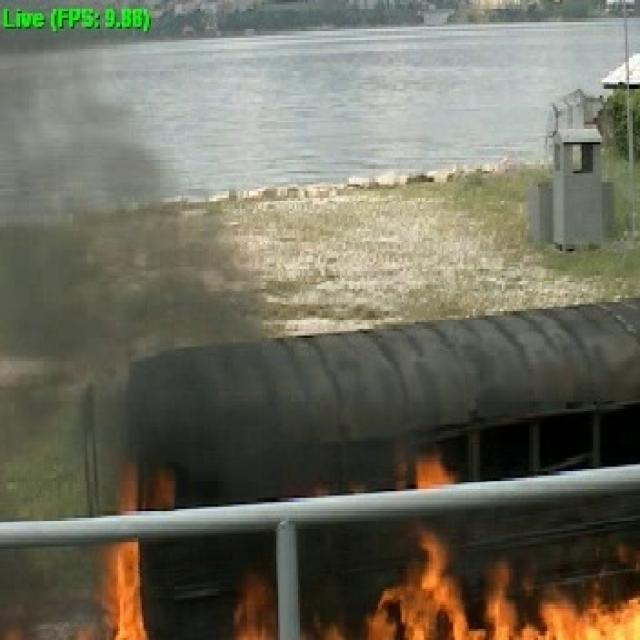fire: (373, 581, 640, 640), (110, 537, 146, 640)
